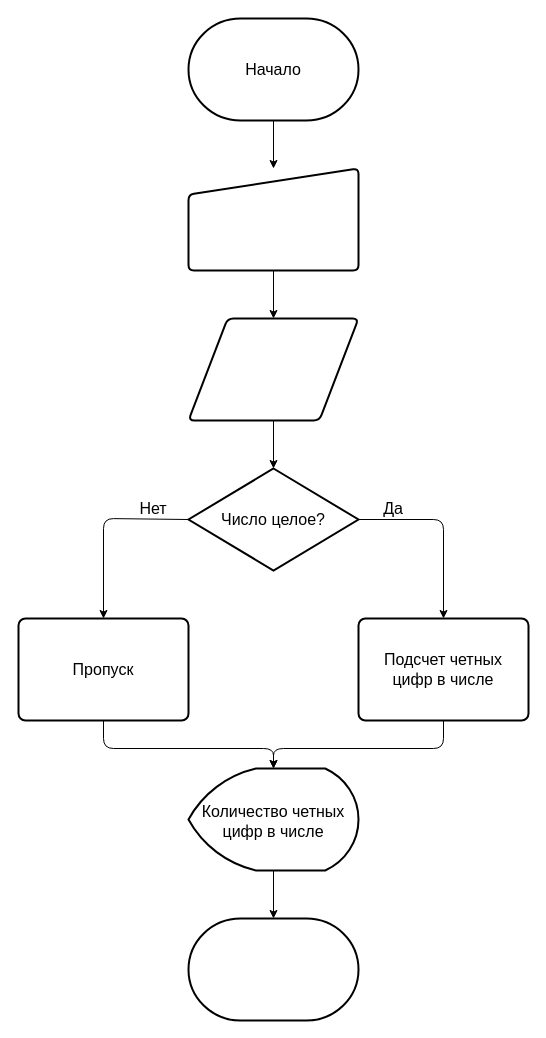
Image size: 546x1038. Some labels were removed from this diagram. Here are the shapes that lost their labels. From the top down, the centre of each, then its label:
At [273,219]: "Ввод числа".
At [273,369]: "Введенное число num".
At [273,969]: "Конец".
